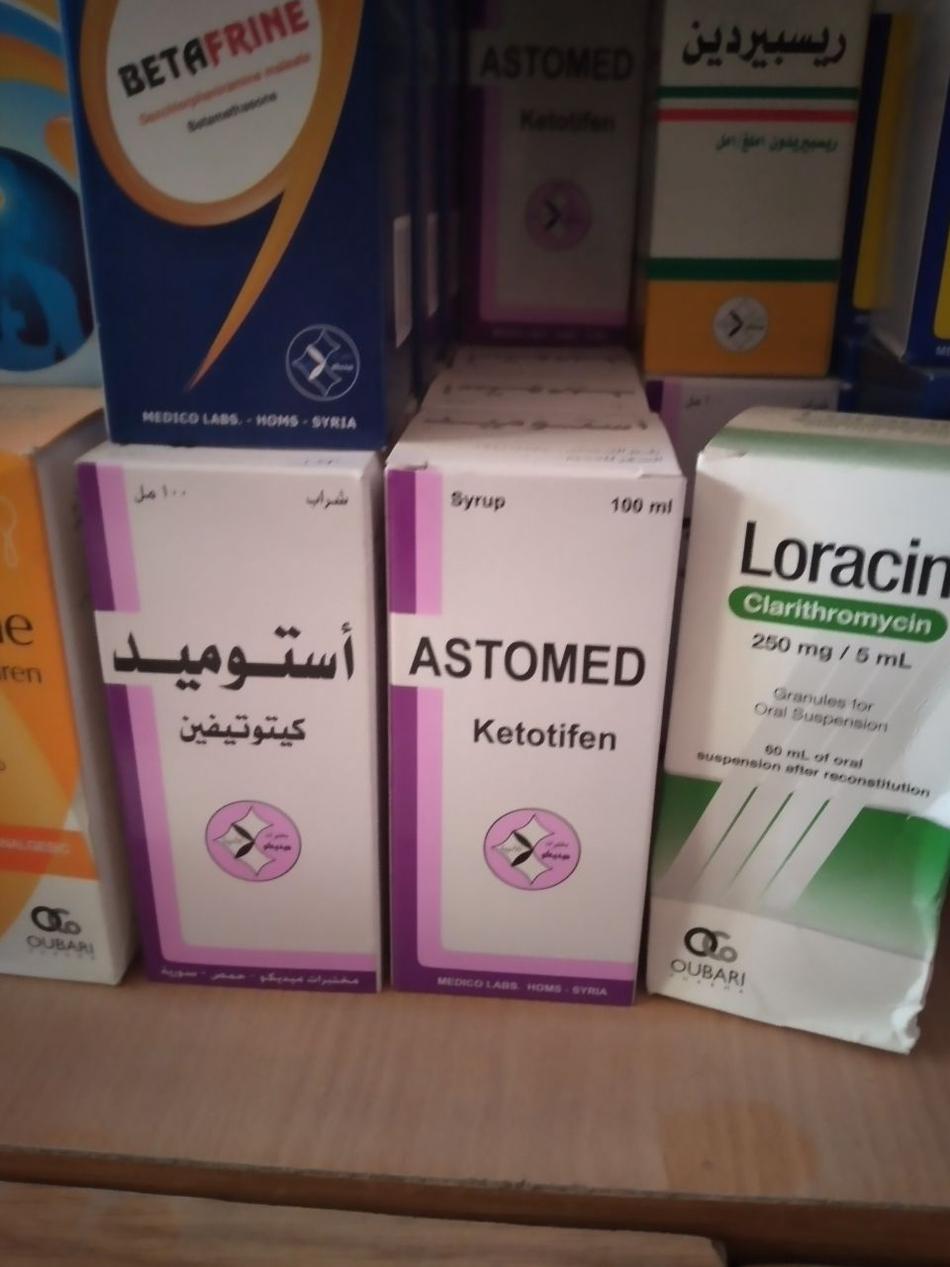Medicine: (56, 442, 412, 1006), (393, 409, 647, 993), (79, 0, 393, 449), (643, 16, 858, 386)
